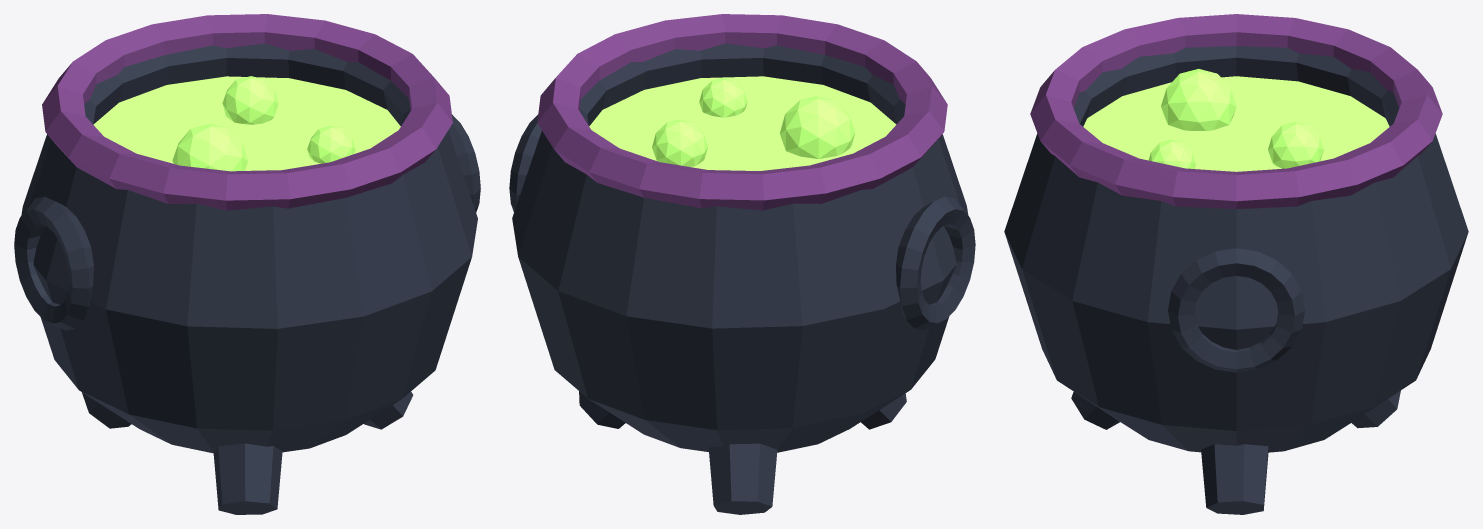
The model's file is witch-cauldron.glb.
3 views of the same model, side by side, from view 1: azimuth 30°, elevation 25°; view 2: azimuth 150°, elevation 25°; view 3: azimuth 270°, elevation 25° (orthographic).
Visible parts, largest first — view 1: witch-cauldron; view 2: witch-cauldron; view 3: witch-cauldron.
Boxes of the visible parts, x1,y1,x2,y2 form: witch-cauldron: (14,14,480,514); witch-cauldron: (509,14,975,514); witch-cauldron: (1004,14,1468,514).
Size of the model in its own units: 0.8714 by 0.7399 by 0.86.
